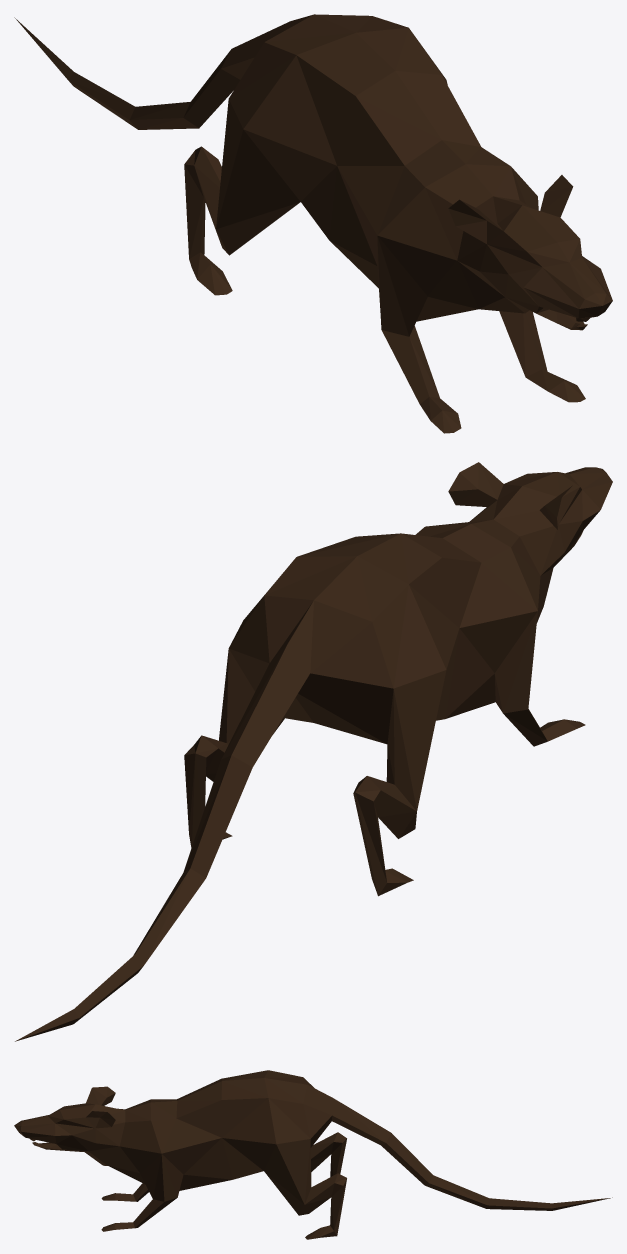
Rendered from GIANT_DESERTRAT_BODY.OBJ.
The picture shows the model from 3 angles, top to bottom: view 1: azimuth 30°, elevation 25°; view 2: azimuth 150°, elevation 25°; view 3: azimuth 270°, elevation 25°; orthographic projection. The views are drawn at different scales.
Visible parts, largest first — view 1: GIANT_DESERTRAT_BODY; view 2: GIANT_DESERTRAT_BODY; view 3: GIANT_DESERTRAT_BODY.
Part boxes in pixels (x1,y1,x2,y2): GIANT_DESERTRAT_BODY: [14, 14, 612, 433]; GIANT_DESERTRAT_BODY: [15, 462, 612, 1041]; GIANT_DESERTRAT_BODY: [14, 1070, 612, 1239].
Size of the model in its own units: 0.6489 by 0.7947 by 3.14.
